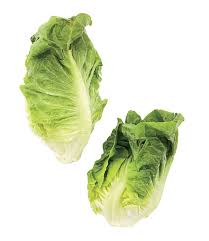lettuce: (20, 10, 104, 164), (85, 109, 191, 226)
